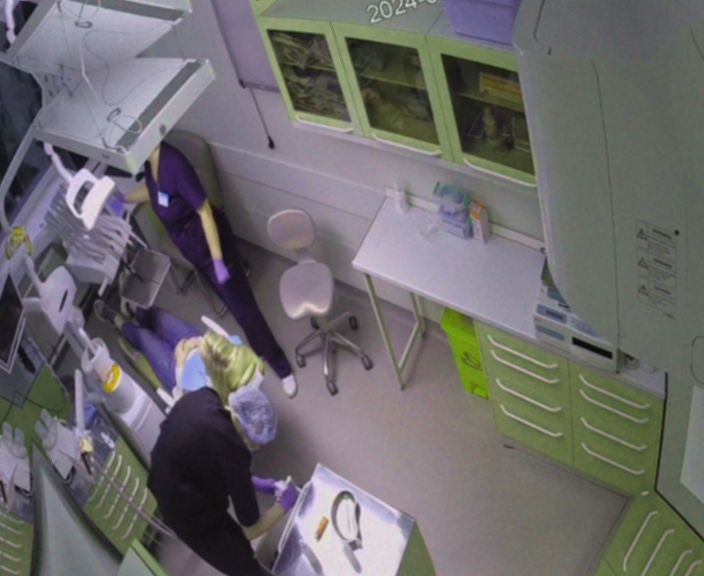Patient: (96, 262, 283, 458)
